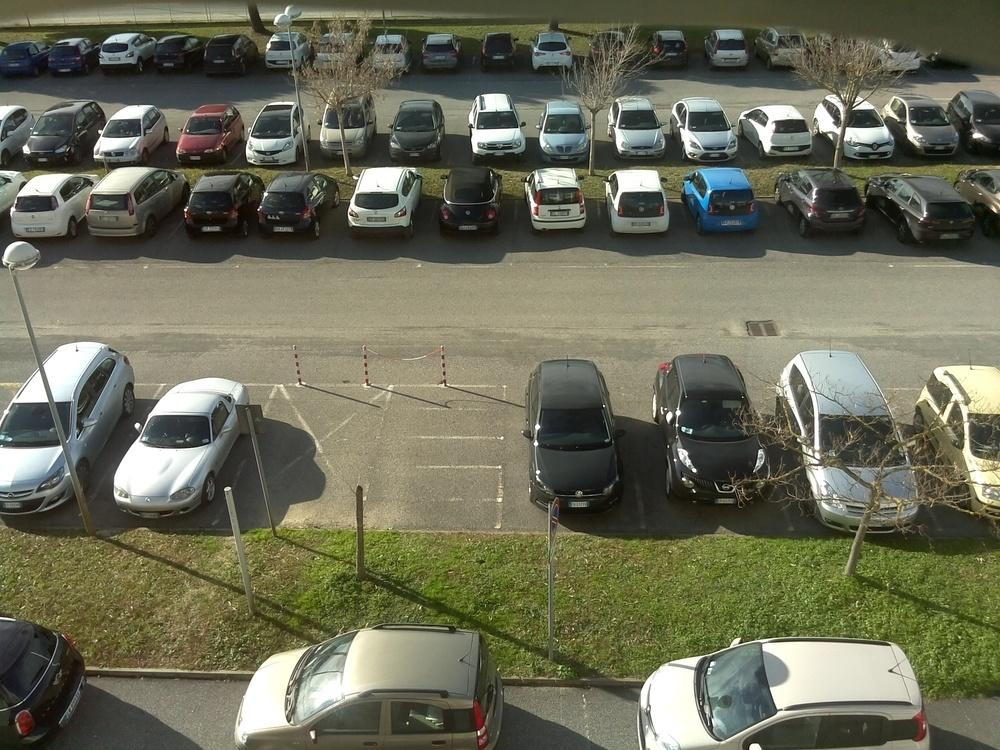empty: (633, 637, 949, 750), (239, 629, 505, 750), (0, 335, 134, 513), (109, 374, 255, 519), (653, 350, 784, 502), (779, 352, 921, 482), (524, 353, 637, 513), (4, 620, 84, 742), (870, 172, 988, 248), (935, 364, 996, 498), (779, 169, 876, 239), (81, 171, 178, 239), (339, 163, 424, 239), (682, 168, 772, 238), (250, 173, 341, 242), (86, 126, 166, 202), (430, 169, 511, 239), (601, 171, 683, 240), (7, 173, 89, 242), (177, 175, 257, 241), (670, 94, 747, 159), (22, 105, 102, 167), (522, 168, 595, 235), (851, 21, 931, 81), (178, 126, 247, 194), (92, 107, 168, 168), (604, 96, 675, 159), (892, 95, 965, 156), (465, 93, 531, 160), (743, 108, 824, 162), (238, 106, 310, 166), (826, 100, 898, 160), (171, 110, 247, 166), (384, 98, 453, 159), (534, 103, 600, 164), (320, 93, 378, 161), (759, 29, 824, 73), (954, 96, 1000, 155), (309, 28, 364, 73), (700, 29, 759, 70), (642, 28, 699, 70), (412, 35, 470, 76), (530, 32, 583, 76), (582, 29, 637, 71), (147, 36, 206, 75), (42, 40, 98, 80), (968, 173, 1000, 243), (203, 36, 257, 77), (364, 33, 413, 78), (256, 33, 308, 74), (94, 37, 150, 74), (475, 35, 524, 74), (0, 44, 48, 82), (2, 109, 31, 164)
